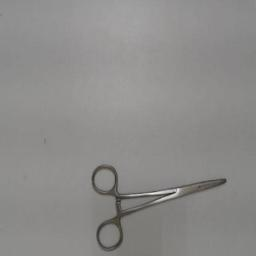Mayo Needle Holder: (86, 159, 230, 253)
